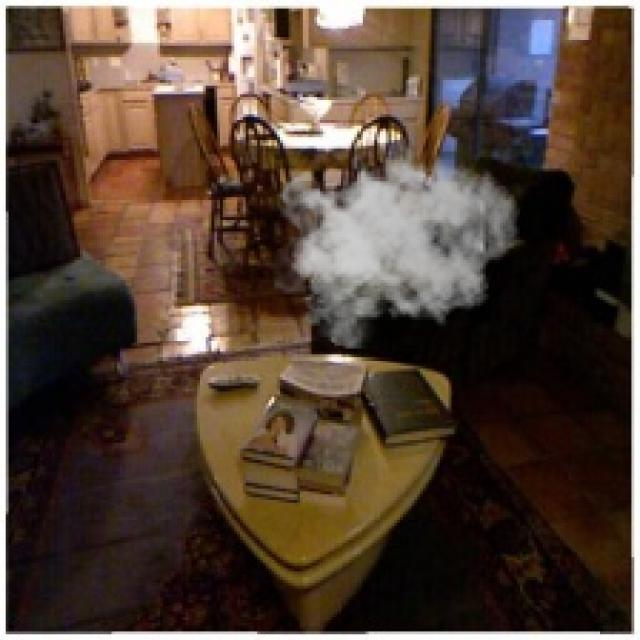Smoke: (274, 134, 520, 349)
